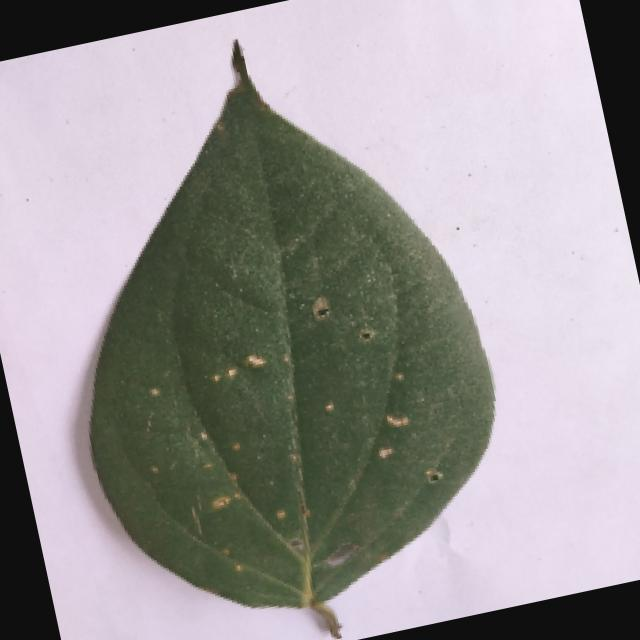pollu-disease: (0, 5, 539, 640)
